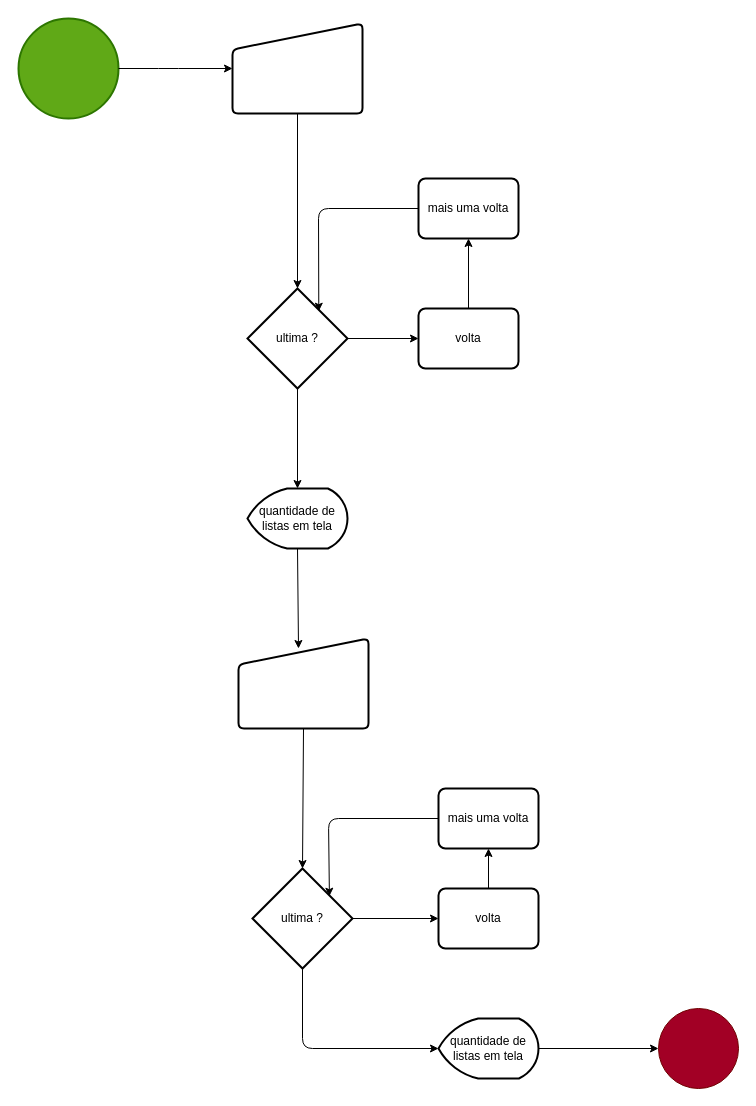
Some shapes in this 756 by 1106 pixel diagram are drawn without their labels. The shapes that lost their labels are listed below. From the top down, each one's box as (x1, y1, x2, y2) in pixels, then its label:
(231, 22, 363, 114): quanidade de voltas
(237, 637, 369, 729): valor de cada volta
